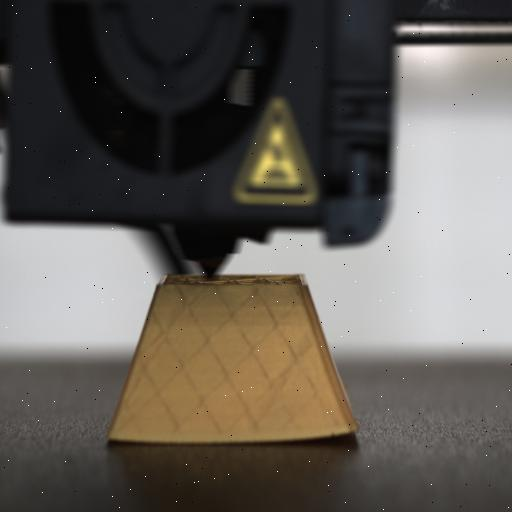warp: (297, 410, 367, 454)
